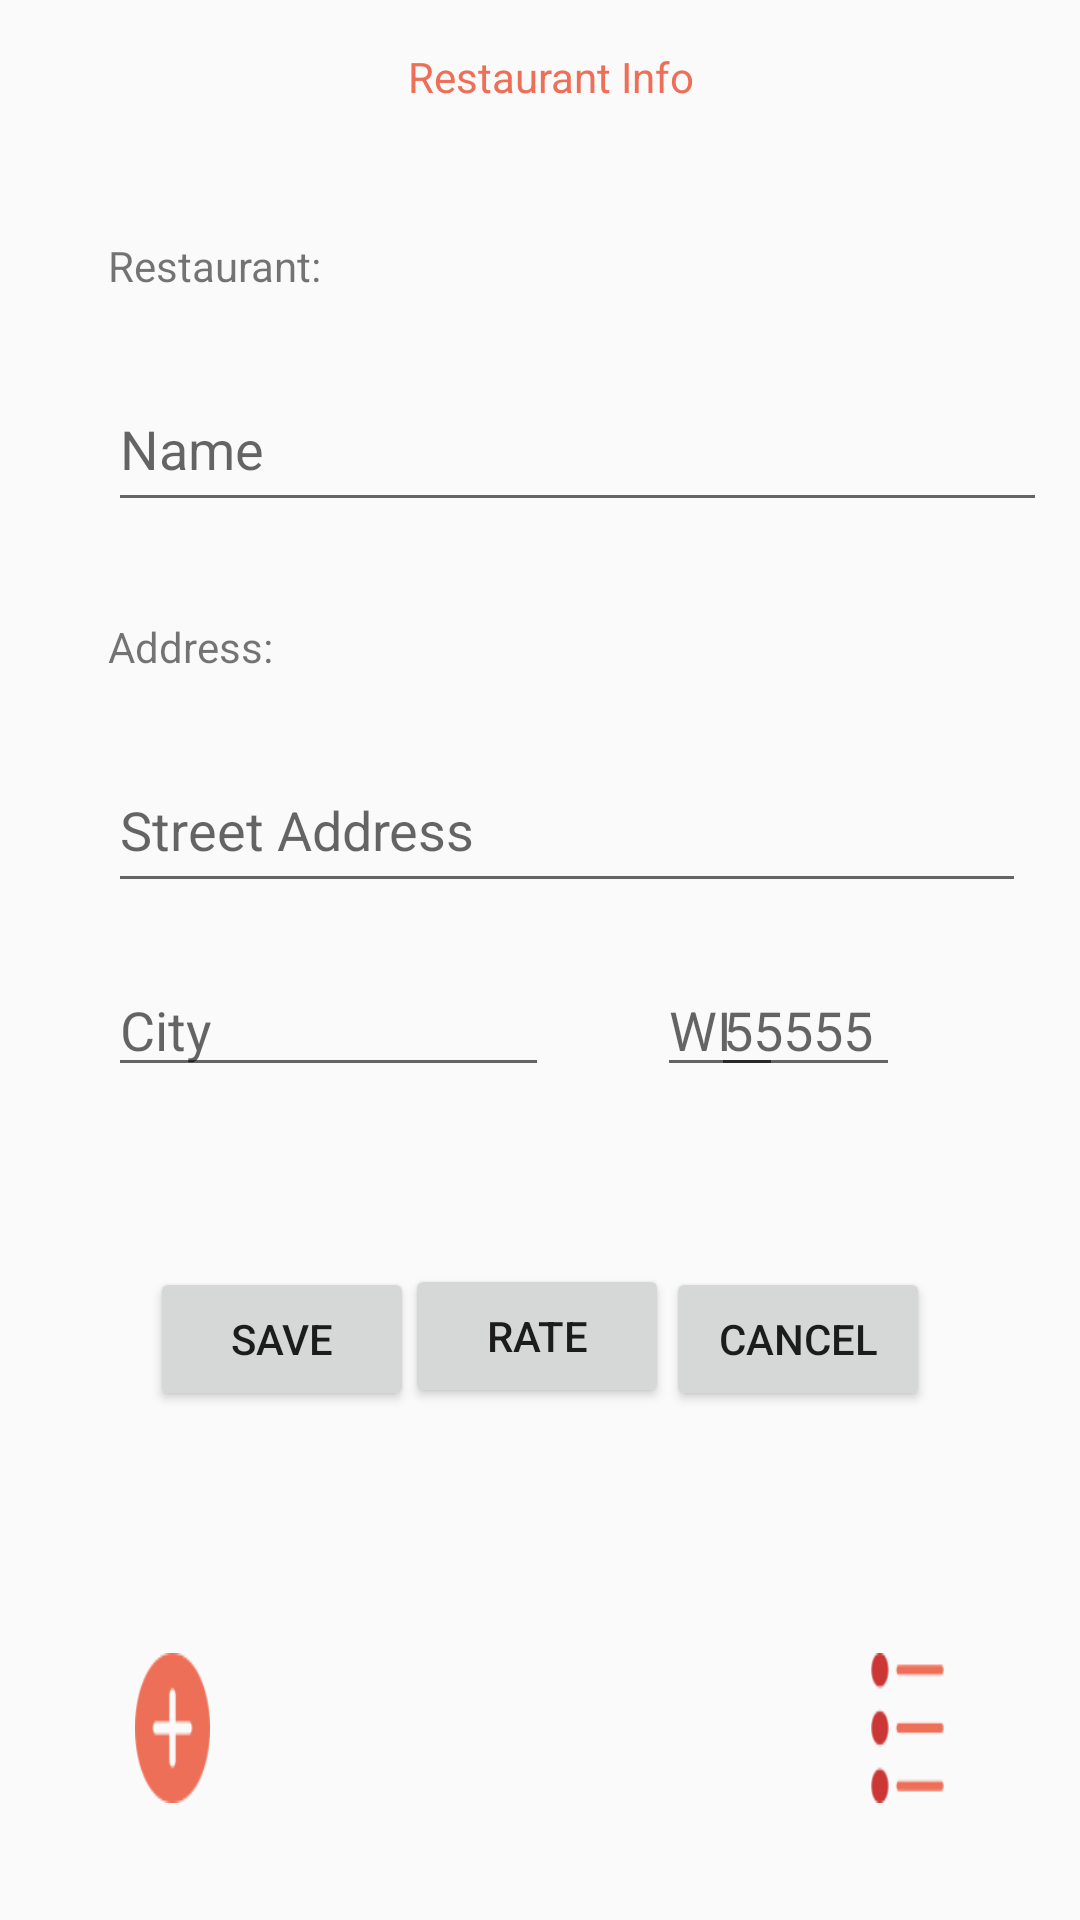

Screen size 1080w x 1920h. Icon name, then its box in pixels as bbox=(x1, y1, x2, y2):
list: bbox=(871, 1653, 944, 1803)
plus: bbox=(135, 1653, 210, 1803)
